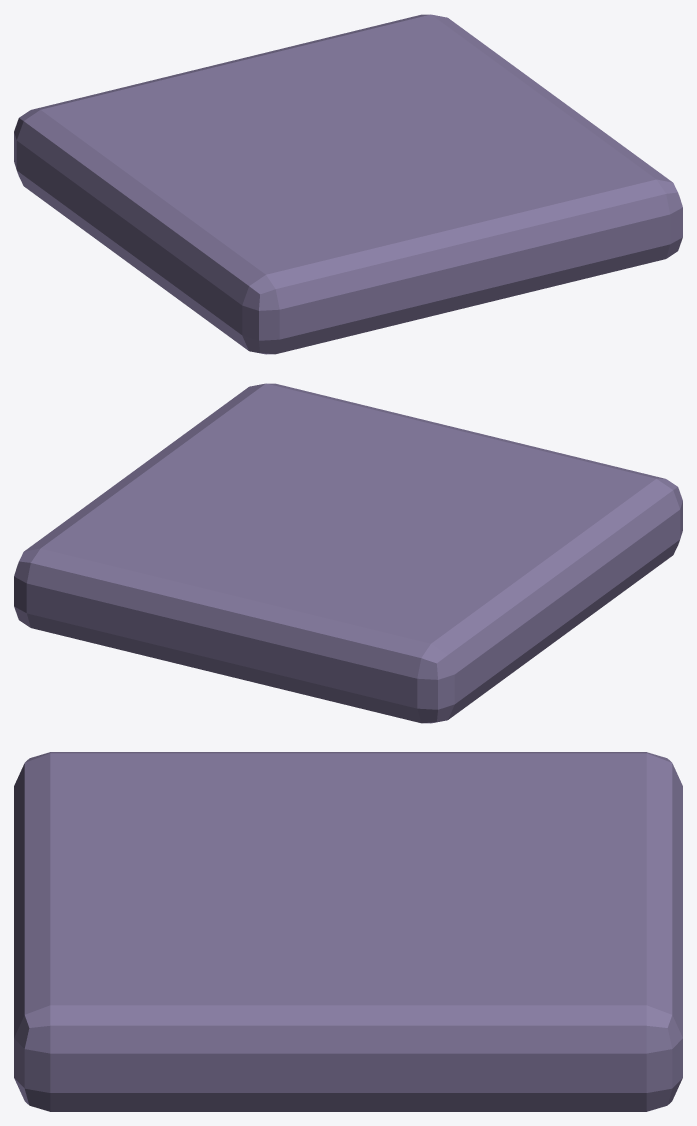
The model's file is tile_slab.glb.
3 views of the same model, one above another, from view 1: azimuth 30°, elevation 25°; view 2: azimuth 150°, elevation 25°; view 3: azimuth 270°, elevation 25° (orthographic). The views are drawn at different scales.
Parts seen in each view (by area): view 1: Slab; view 2: Slab; view 3: Slab.
Boxes of the visible parts, bbox=[...] form: Slab: bbox=[14, 14, 682, 354]; Slab: bbox=[14, 383, 682, 723]; Slab: bbox=[14, 752, 682, 1111].
Bounding box in the file's own units: 0.92 × 0.16 × 0.92.
